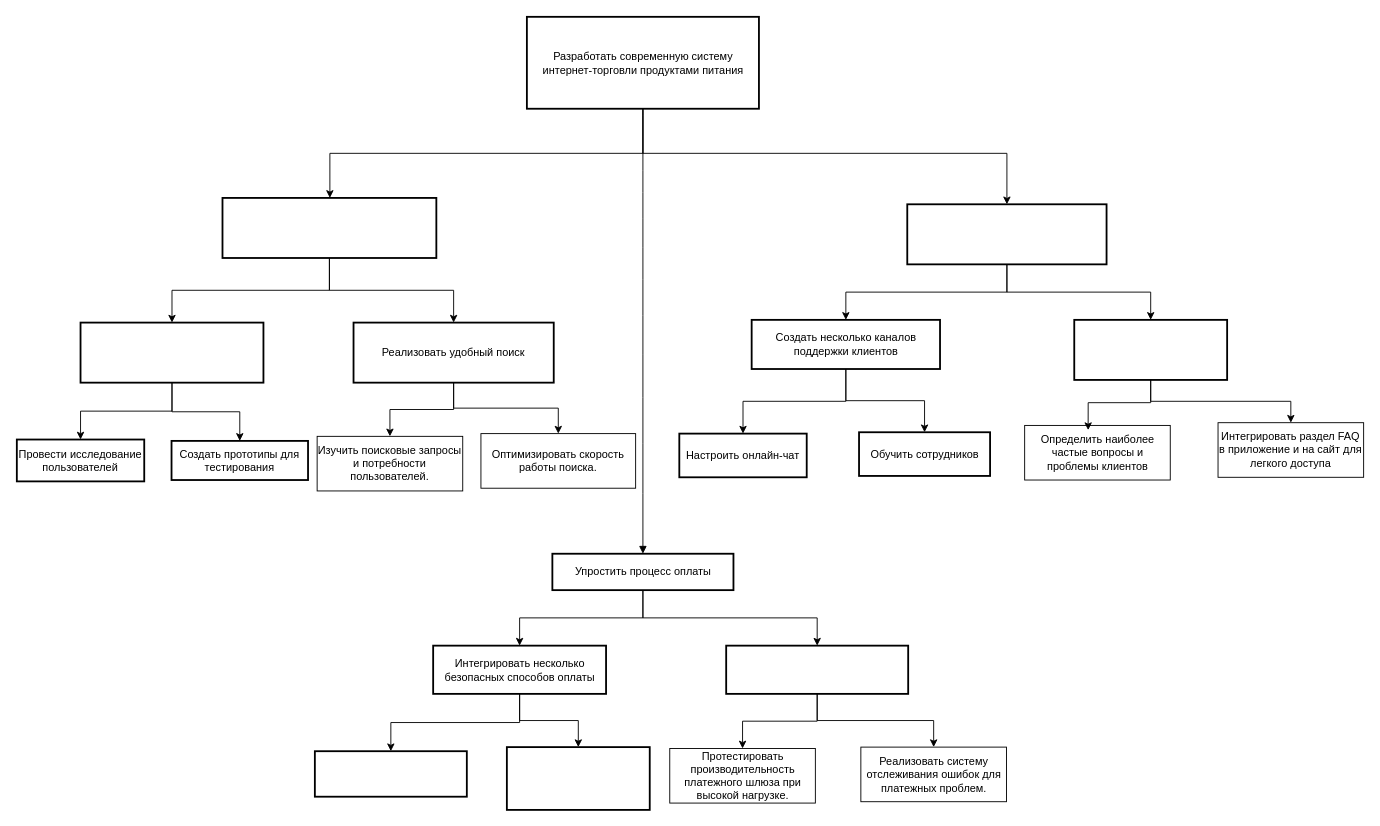
This 1380x826 diagram has some shape labels left out. The centre of each missing label's shape, as x and y in pixels:
Изучить и выбрать платежные системы: pixel 390 773
Обеспечить быструю обработку и минимизировать сбои: pixel 817 669
Разработать безопасные API для обработки платежей: pixel 578 778
Создать FAQ и документацию: pixel 1150 349
Улучшить дизайн сайта/приложения: pixel 171 352
Улучшить поддержку клиентов: pixel 1006 234
Улучшить пользовательский опыт: pixel 329 227
